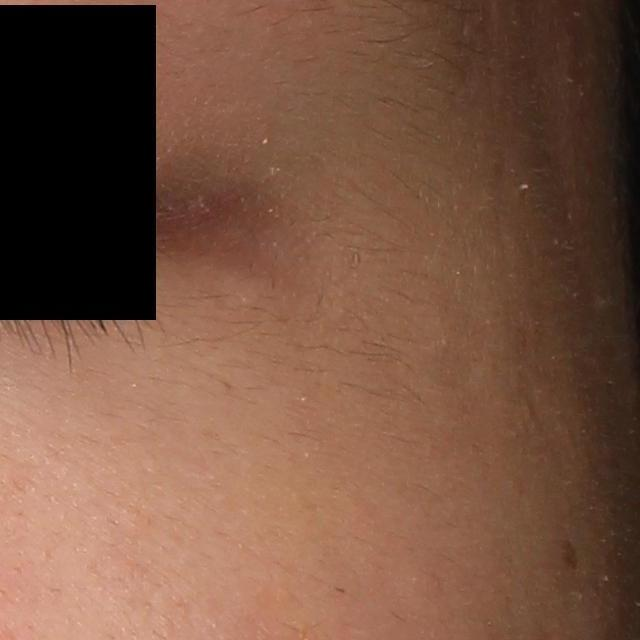nevus: (559, 537, 586, 574)
